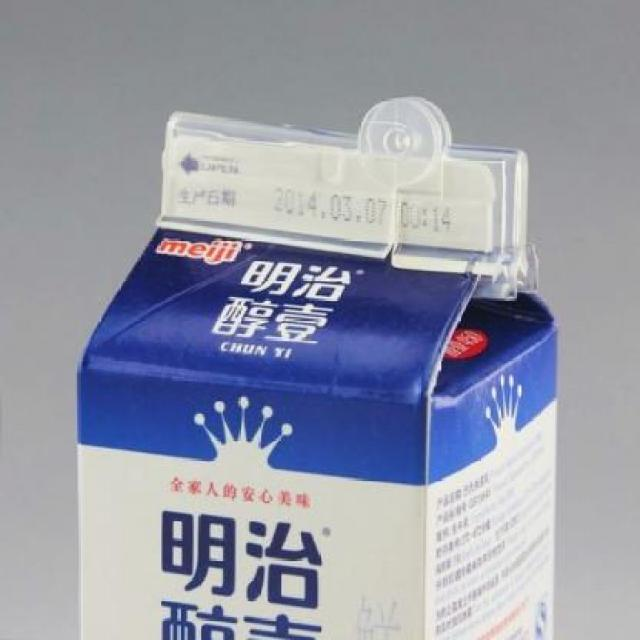non_white_jug: (58, 95, 580, 639)
